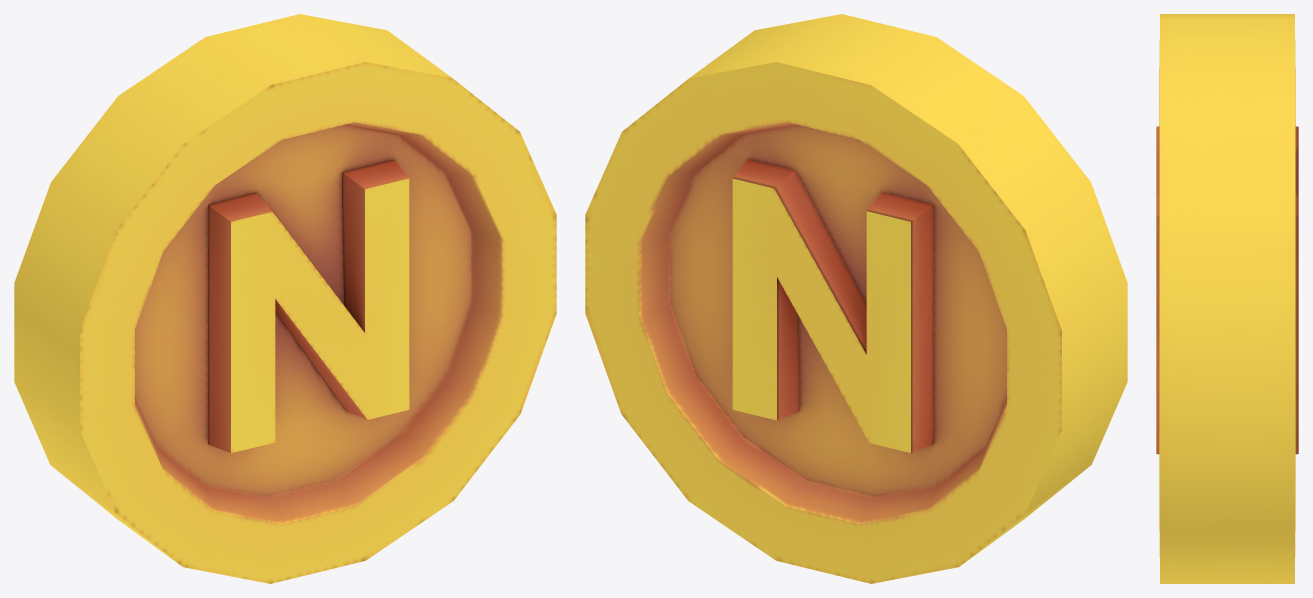
File: coin.glb
The picture shows the model from 3 angles, left to right: view 1: azimuth 30°, elevation 25°; view 2: azimuth 150°, elevation 25°; view 3: azimuth 270°, elevation 25°; orthographic projection. The views are drawn at different scales.
Visible parts, largest first — view 1: coin; view 2: coin; view 3: coin.
Boxes of the visible parts, x1=… form: coin: x1=14, y1=14, x2=556, y2=583; coin: x1=585, y1=14, x2=1127, y2=583; coin: x1=1156, y1=14, x2=1298, y2=583.
Size of the model in its own units: 0.3899 by 0.3897 by 0.0982.
Materials: 1 (1 with a texture image).
